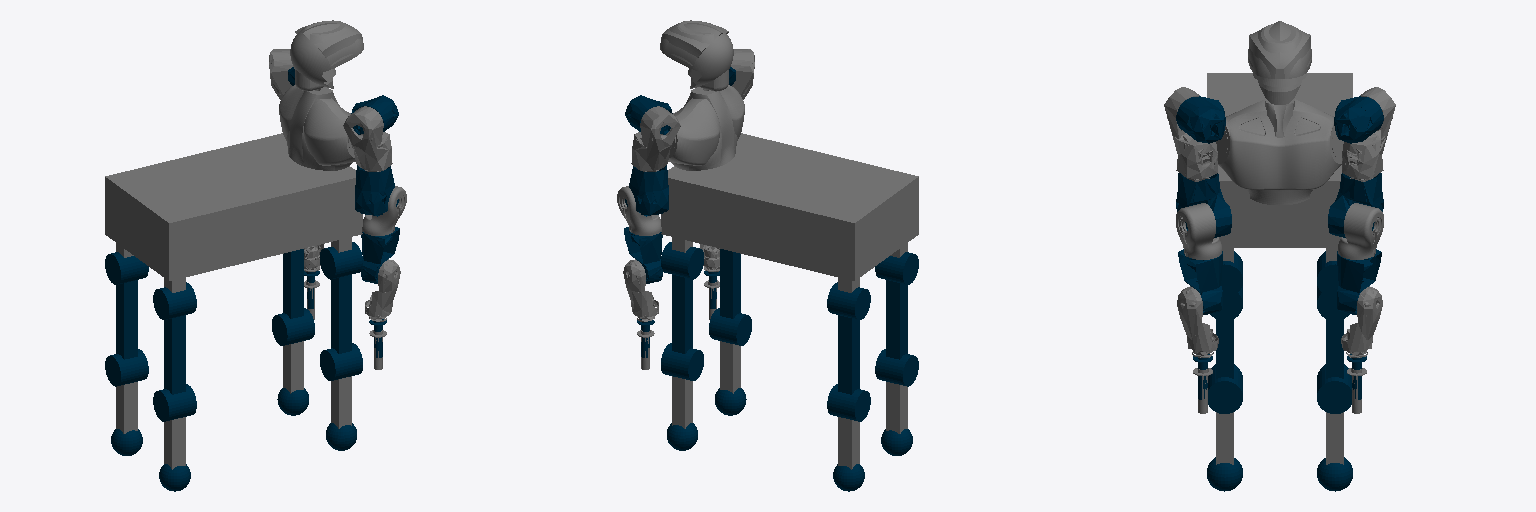
--- What the picture shows (computed from the rendered views, not written in the file) ---
3 views of the same robot in one strip: view 1: azimuth 30°, elevation 25°; view 2: azimuth 150°, elevation 25°; view 3: azimuth 270°, elevation 25° (orthographic).
Model centauro with 32 links and 31 joints (27 revolute, 3 fixed, 1 floating), rooted at world, posed all joints at 0.
Visible links, largest first — view 1: pelvis, torso_2, knee_3, knee_4, knee_2, knee_1, hip2_3, hip2_2, hip2_4, arm2_2, arm2_3, hip2_1 (+5 smaller); view 2: pelvis, torso_2, knee_4, knee_3, knee_1, knee_2, hip2_4, hip2_1, hip2_3, arm1_2, arm1_3, hip2_2 (+5 smaller); view 3: torso_2, pelvis, knee_1, knee_2, arm1_2, arm2_2, hip2_1, hip2_2, arm1_4, arm2_4, arm1_1, arm2_1 (+6 smaller).
Link boxes in pixels (x1,y1,x2,y2): pelvis: (105, 133, 362, 280); torso_2: (279, 20, 363, 170); knee_3: (153, 384, 196, 491); knee_4: (105, 349, 148, 455); knee_2: (320, 343, 362, 450); knee_1: (272, 308, 314, 415); hip2_3: (153, 282, 196, 394); hip2_2: (320, 242, 362, 353); hip2_4: (105, 252, 148, 359); arm2_2: (343, 106, 392, 171); arm2_3: (355, 165, 398, 216); hip2_1: (283, 249, 303, 318); pelvis: (661, 133, 918, 280); torso_2: (660, 20, 744, 170); knee_4: (827, 384, 870, 491); knee_3: (875, 349, 918, 455); knee_1: (661, 343, 703, 450); knee_2: (709, 308, 751, 415); hip2_4: (827, 282, 870, 394); hip2_1: (661, 242, 703, 353); hip2_3: (875, 252, 918, 359); arm1_2: (631, 106, 680, 171); arm1_3: (625, 165, 668, 216); hip2_2: (720, 249, 740, 318); torso_2: (1216, 21, 1343, 205); pelvis: (1207, 73, 1352, 247); knee_1: (1317, 368, 1352, 491); knee_2: (1207, 368, 1242, 491); arm1_2: (1342, 87, 1395, 181); arm2_2: (1164, 87, 1217, 181); hip2_1: (1317, 251, 1343, 378); hip2_2: (1216, 251, 1242, 378); arm1_4: (1338, 203, 1383, 259); arm2_4: (1176, 203, 1221, 259); arm1_1: (1334, 96, 1383, 143); arm2_1: (1176, 96, 1225, 143).
Bounding box of the posed robot: 0.8353 × 0.6319 × 1.4 m (x, y, z).
17 mesh visuals loaded from 9 distinct referenced files (9 binary STL).

The robot description file, URDF, robot "centauro":
<?xml version="1.0" ?>
<!-- =================================================================================== -->
<!-- |    This document was autogenerated by xacro from centauro.urdf.xacro            | -->
<!-- |    EDITING THIS FILE BY HAND IS NOT RECOMMENDED                                 | -->
<!-- =================================================================================== -->
<robot name="centauro" xmlns:xacro="http://www.ros.org/wiki/xacro">
  <!-- /constants -->
  <!-- Here all arguments from launch file are evaluated to the final xacro poropeties.
     Also all the parameter dependencies are resolved-->
  <material name="grey">
    <color rgba="0.5 0.5 0.5 1"/>
  </material>
  <material name="dark_grey">
    <color rgba="0.3 0.3 0.3 1"/>
  </material>
  <material name="blue">
    <color rgba="0.0 0.2 0.3 1"/>
  </material>
  <material name="red">
    <color rgba="0.5 0.1 0.2 1"/>
  </material>
  <material name="black">
    <color rgba="0.0 0.0 0.0 1"/>
  </material>
  <!-- Here all arguments from launch file are evaluated to the final xacro poropeties.
     Also all the parameter dependencies are resolved-->
  <!-- load proper collision model -->
  <!-- load proper collision model -->
  <!-- Here all arguments from launch file are evaluated to the final xacro poropeties.
     Also all the parameter dependencies are resolved-->
  <!-- load proper collision model -->
  <!-- load proper collision model -->
  <!-- /macro legs -->
  <!-- /macro arms -->
  <!-- /other files -->
  <!-- reference -->
  <link name="world"/>
  <link name="pelvis">
    <inertial>
      <origin xyz="-0.0704 0.0 -0.0416"/>
      <mass value="25.0"/>
      <inertia ixx="0.242311" ixy="0.0" ixz="0.0" iyy="1.338707" iyz="0.0" izz="1.369479"/>
    </inertial>
    <visual>
      <origin rpy="0.0 0.0 0.0" xyz="0 0 0"/>
      <geometry>
        <box size="0.70 0.40 0.20"/>
      </geometry>
      <material name="grey"/>
    </visual>
    <collision>
      <origin rpy="0.0 0.0 0.0" xyz="0 0 0"/>
      <geometry>
        <box size="0.70 0.40 0.20"/>
      </geometry>
      <material name="grey"/>
    </collision>
  </link>
  <joint name="reference" type="floating">
    <origin xyz="0.0 0.0 0.85"/>
    <parent link="world"/>
    <child link="pelvis"/>
  </joint>
  <!-- /reference  -->
  <!-- torso links -->
  <link name="torso_2">
    <inertial>
      <origin xyz="0.0047281261 0.00038307386 0.14972892"/>
      <mass value="4.5494226"/>
      <!-- mass  7: torso_1 (2) + torso_2 (5), head un_modelled -->
      <inertia ixx="0.063643392" ixy="8.939e-05" ixz="-0.00086873" iyy="0.02680235" iyz="-4.657e-05" izz="0.04743015"/>
    </inertial>
    <visual>
      <origin rpy="0.0 0.0 0.0" xyz="0.0 0 0.0"/>
      <geometry>
        <mesh filename="package://centauro/centauro_urdf/meshes/link1.stl" scale="0.001 0.001 0.001"/>
      </geometry>
      <material name="grey"/>
    </visual>
    <collision>
      <origin rpy="0.0 0.0 0.0" xyz="0.0 0 0.0"/>
      <geometry>
        <mesh filename="package://centauro/centauro_urdf/meshes/link1.stl" scale="0.001 0.001 0.001"/>
      </geometry>
      <material name="grey"/>
    </collision>
  </link>
  <link name="imu_link">
    <inertial>
      <mass value="0.0"/>
      <!-- mass  7: torso_1 (2) + torso_2 (5), head un_modelled -->
      <inertia ixx="0.0" ixy="0.0" ixz="0.0" iyy="0.0" iyz="0.0" izz="0.0"/>
    </inertial>
  </link>
  <!-- /torso links -->
  <!-- torso joints -->
  <joint name="torso_yaw" type="revolute">
    <parent link="pelvis"/>
    <origin xyz="0.3 0.0 0.1"/>
    <child link="torso_2"/>
    <axis xyz="0 0 1"/>
    <limit effort="147" lower="-2.618" upper="2.618" velocity="5.7"/>
    <!-- TODO -->
  </joint>
  <joint name="imu_joint" type="fixed">
    <parent link="pelvis"/>
    <origin xyz="-0.0704 0.0 -0.0416"/>
    <child link="imu_link"/>
  </joint>
  <!-- /torso joints -->
  <transmission name="t_torso_yaw">
    <type> transmission_interface/SimpleTransmission</type>
    <joint name="torso_yaw">
      <hardwareInterface>EffortJointInterface</hardwareInterface>
    </joint>
    <actuator name="motor_torso_yaw">
      <hardwareInterface>EffortJointInterface</hardwareInterface>
      <machanicalReduction>1</machanicalReduction>
    </actuator>
    <robotNamespace>/centauro</robotNamespace>
  </transmission>
  <!-- /torso actuators -->
  <!-- /torso -->
  <!-- LINKS -->
  <!-- shoulder yaw-roll-->
  <link name="arm1_1">
    <inertial>
      <origin xyz="-0.0031005886 0.040324584 0.007451937"/>
      <mass value="1.5583338"/>
      <inertia ixx="0.0032318636" ixy="4.24587e-05" ixz="4.91626e-05" iyy="0.00275718" iyz="-0.0002387056" izz="0.004275047"/>
    </inertial>
    <visual>
      <origin rpy="0.0 0.0 0.0" xyz="0.0 0.0 0.0"/>
      <geometry>
        <mesh filename="package://centauro/centauro_urdf/meshes/link2.stl" scale="0.001 -0.001 0.001"/>
      </geometry>
      <material name="blue"/>
    </visual>
    <collision>
      <origin rpy="0.0 0.0 0.0" xyz="0.0 0.0 0.0"/>
      <geometry>
        <mesh filename="package://centauro/centauro_urdf/meshes/link2.stl" scale="0.001 -0.001 0.001"/>
      </geometry>
      <material name="blue"/>
    </collision>
  </link>
  <!-- shoulder yaw-roll-->
  <!-- shoulder roll-pitch-->
  <link name="arm1_2">
    <inertial>
      <origin xyz="0.05105435 0.00011109 -0.07643596"/>
      <mass value="1.515061"/>
      <inertia ixx="0.01029558" ixy="2.846e-05" ixz="0.0036567" iyy="0.01178018" iyz="2.088e-05" izz="0.00386123"/>
    </inertial>
    <visual>
      <origin rpy="0.0 0.0 0.0" xyz="0.0 0.0 0.0"/>
      <geometry>
        <mesh filename="package://centauro/centauro_urdf/meshes/link3.stl" scale="0.001 -0.001 0.001"/>
      </geometry>
      <material name="grey"/>
    </visual>
    <collision>
      <origin rpy="0.0 0.0 0.0" xyz="0.0 0.0 0.0"/>
      <geometry>
        <mesh filename="package://centauro/centauro_urdf/meshes/link3.stl" scale="0.001 -0.001 0.001"/>
      </geometry>
      <material name="grey"/>
    </collision>
  </link>
  <!-- shoulder roll-pitch-->
  <!-- shoulder-elbow -->
  <link name="arm1_3">
    <inertial>
      <origin xyz="0.01207624 0.00322013 -0.03427312"/>
      <mass value="1.5088101"/>
      <inertia ixx="0.00469819" ixy="-0.00026547" ixz="0.00077706" iyy="0.00501755" iyz="0.00029679" izz="0.00310954"/>
    </inertial>
    <visual>
      <origin rpy="0.0 0.0 0.0" xyz="0.0 0.0 0.0"/>
      <geometry>
        <mesh filename="package://centauro/centauro_urdf/meshes/link4.stl" scale="0.001 -0.001 0.001"/>
      </geometry>
      <material name="blue"/>
    </visual>
    <collision>
      <origin rpy="0.0 0.0 0.0" xyz="0.0 0.0 0.0"/>
      <geometry>
        <mesh filename="package://centauro/centauro_urdf/meshes/link4.stl" scale="0.001 -0.001 0.001"/>
      </geometry>
      <material name="blue"/>
    </collision>
  </link>
  <!-- /shoulder-elbow -->
  <!-- elbow yaw-pitch -->
  <link name="arm1_4">
    <inertial>
      <origin xyz="0.010147552 -0.029928537 -0.032528288"/>
      <mass value="0.96297329"/>
      <inertia ixx="0.0026493567" ixy="5.1632e-06" ixz="0.0001292309" iyy="0.0023470955" iyz="-0.0007895755" izz="0.0012213063"/>
    </inertial>
    <visual>
      <origin rpy="0.0 0.0 0.0" xyz="0.0 0.0 0.0"/>
      <geometry>
        <mesh filename="package://centauro/centauro_urdf/meshes/link5.stl" scale="0.001 -0.001 0.001"/>
      </geometry>
      <material name="grey"/>
    </visual>
    <collision>
      <origin rpy="0.0 0.0 0.0" xyz="0.0 0.0 0.0"/>
      <geometry>
        <mesh filename="package://centauro/centauro_urdf/meshes/link5.stl" scale="0.001 -0.001 0.001"/>
      </geometry>
      <material name="grey"/>
    </collision>
  </link>
  <!-- /elbow yaw-pitch -->
  <!-- elbow-wrist -->
  <link name="arm1_5">
    <inertial>
      <origin xyz="-0.0001574443 0.0041320907 -0.10756614"/>
      <mass value="1.4703698"/>
      <inertia ixx="0.0064160453" ixy="1.96382e-05" ixz="2.49912e-05" iyy="0.0062016367" iyz="-0.0001987903" izz="0.0017091658"/>
    </inertial>
    <visual>
      <origin rpy="0.0 0.0 0.0" xyz="0.0 0.0 0.0"/>
      <geometry>
        <mesh filename="package://centauro/centauro_urdf/meshes/link6.stl" scale="0.001 -0.001 0.001"/>
      </geometry>
      <material name="blue"/>
    </visual>
    <collision>
      <origin rpy="0.0 0.0 0.0" xyz="0.0 0.0 0.0"/>
      <geometry>
        <mesh filename="package://centauro/centauro_urdf/meshes/link6.stl" scale="0.001 -0.001 0.001"/>
      </geometry>
      <material name="blue"/>
    </collision>
  </link>
  <!-- /elbow-wrist -->
  <!-- wrist yaw-pitch -->
  <link name="arm1_6">
    <inertial>
      <origin xyz="3.23645e-05 -0.035947237 -0.080878061"/>
      <mass value="0.94693868"/>
      <inertia ixx="0.0036896582" ixy="2.63667e-05" ixz="1.4005e-06" iyy="0.0034146283" iyz="-0.0008268103" izz="0.0010790183"/>
    </inertial>
    <visual>
      <origin rpy="0.0 0.0 0.0" xyz="0.0 0.0 0.0"/>
      <geometry>
        <mesh filename="package://centauro/centauro_urdf/meshes/link7.stl" scale="0.001 -0.001 0.001"/>
      </geometry>
      <material name="grey"/>
    </visual>
    <collision>
      <origin rpy="0.0 0.0 0.0" xyz="0.0 0.0 0.0"/>
      <geometry>
        <mesh filename="package://centauro/centauro_urdf/meshes/link7.stl" scale="0.001 -0.001 0.001"/>
      </geometry>
      <material name="grey"/>
    </collision>
  </link>
  <!-- /wrist yaw-pitch -->
  <link name="arm1_7">
    <inertial>
      <origin xyz="2.46596e-05 -0.0001467705 -0.0052993013"/>
      <mass value="0.55981036"/>
      <inertia ixx="0.0004360175" ixy="1.397e-07" ixz="-1.382e-07" iyy="0.0004299166" iyz="-1.4752e-06" izz="0.0004522224"/>
    </inertial>
    <visual>
      <origin rpy="0.0 0.0 0.0" xyz="0.0 0.0 0.0"/>
      <geometry>
        <mesh filename="package://centauro/centauro_urdf/meshes/link8.stl" scale="0.001 -0.001 0.001"/>
      </geometry>
      <material name="blue"/>
    </visual>
    <collision>
      <origin rpy="0.0 0.0 0.0" xyz="0.0 0.0 0.0"/>
      <geometry>
        <mesh filename="package://centauro/centauro_urdf/meshes/link8.stl" scale="0.001 -0.001 0.001"/>
      </geometry>
      <material name="blue"/>
    </collision>
  </link>
  <!-- /LINKS -->
  <!-- JOINTS -->
  <!-- shoulder yaw -->
  <joint name="j_arm1_1" type="revolute">
    <parent link="torso_2"/>
    <child link="arm1_1"/>
    <origin rpy="0.0 0.0 -0.523602668986" xyz="0.04576 0.169137 0.190626"/>
    <axis xyz="0 0.984807753012 0.173648177667"/>
    <limit effort="147" lower="-3.403" upper="1.658" velocity="5.7"/>
  </joint>
  <!-- /shoulder yaw -->
  <!-- shoulder roll -->
  <joint name="j_arm1_2" type="revolute">
    <parent link="arm1_1"/>
    <child link="arm1_2"/>
    <origin xyz="-0.09115 0.06106 0.010766"/>
    <axis xyz="-1 0 0"/>
    <limit effort="147" lower="-3.49" upper="0" velocity="5.7"/>
  </joint>
  <!-- /shoulder roll -->
  <!-- shoulder pitch-->
  <joint name="j_arm1_3" type="revolute">
    <parent link="arm1_2"/>
    <child link="arm1_3"/>
    <origin xyz="0.09115 0.0 -0.21915"/>
    <axis xyz="0 0 -1"/>
    <limit effort="147" lower="-2.618" upper="2.618" velocity="8.2"/>
  </joint>
  <!-- /shoulder pitch -->
  <!-- elbow yaw -->
  <joint name="j_arm1_4" type="revolute">
    <parent link="arm1_3"/>
    <child link="arm1_4"/>
    <origin xyz="0.04 0.05615 -0.074"/>
    <axis xyz="0 1 0"/>
    <limit effort="147" lower="-2.530" upper="0.349" velocity="8.2"/>
  </joint>
  <!-- /elbow yaw -->
  <!-- elbow pitch-->
  <joint name="j_arm1_5" type="revolute">
    <parent link="arm1_4"/>
    <child link="arm1_5"/>
    <origin xyz="-0.015 -0.05615 -0.061"/>
    <axis xyz="0 0 -1"/>
    <limit effort="55" lower="-2.618" upper="2.618" velocity="11.6"/>
  </joint>
  <!-- /elbow pitch-->
  <!-- wrist yaw-->
  <joint name="j_arm1_6" type="revolute">
    <parent link="arm1_5"/>
    <child link="arm1_6"/>
    <origin xyz="0.0 0.049 -0.18"/>
    <axis xyz="0 1 0"/>
    <limit effort="55" lower="-1.570" upper="1.570" velocity="11.6"/>
  </joint>
  <!-- /wrist yaw-->
  <!-- wrist pitch-->
  <joint name="j_arm1_7" type="revolute">
    <parent link="arm1_6"/>
    <child link="arm1_7"/>
    <origin xyz="0.0 -0.049 -0.169"/>
    <axis xyz="0 0 -1"/>
    <limit effort="27" lower="-2.618" upper="2.618" velocity="20.3"/>
  </joint>
  <!-- wrist pitch-->
  <!-- force-troque sensor -->
  <transmission name="t_j_arm1_1">
    <type> transmission_interface/SimpleTransmission</type>
    <joint name="j_arm1_1">
      <hardwareInterface>EffortJointInterface</hardwareInterface>
    </joint>
    <actuator name="motor_j_arm1_1">
      <hardwareInterface>EffortJointInterface</hardwareInterface>
      <machanicalReduction>1</machanicalReduction>
    </actuator>
    <robotNamespace>/centauro</robotNamespace>
  </transmission>
  <transmission name="t_j_arm1_2">
    <type> transmission_interface/SimpleTransmission</type>
    <joint name="j_arm1_2">
      <hardwareInterface>EffortJointInterface</hardwareInterface>
    </joint>
    <actuator name="motor_j_arm1_2">
      <hardwareInterface>EffortJointInterface</hardwareInterface>
      <machanicalReduction>1</machanicalReduction>
    </actuator>
    <robotNamespace>/centauro</robotNamespace>
  </transmission>
  <transmission name="t_j_arm1_3">
    <type> transmission_interface/SimpleTransmission</type>
    <joint name="j_arm1_3">
      <hardwareInterface>EffortJointInterface</hardwareInterface>
    </joint>
    <actuator name="motor_j_arm1_3">
      <hardwareInterface>EffortJointInterface</hardwareInterface>
      <machanicalReduction>1</machanicalReduction>
    </actuator>
    <robotNamespace>/centauro</robotNamespace>
  </transmission>
  <transmission name="t_j_arm1_4">
    <type> transmission_interface/SimpleTransmission</type>
    <joint name="j_arm1_4">
      <hardwareInterface>EffortJointInterface</hardwareInterface>
    </joint>
    <actuator name="motor_j_arm1_4">
      <hardwareInterface>EffortJointInterface</hardwareInterface>
      <machanicalReduction>1</machanicalReduction>
    </actuator>
    <robotNamespace>/centauro</robotNamespace>
  </transmission>
  <transmission name="t_j_arm1_5">
    <type> transmission_interface/SimpleTransmission</type>
    <joint name="j_arm1_5">
      <hardwareInterface>EffortJointInterface</hardwareInterface>
    </joint>
    <actuator name="motor_j_arm1_5">
      <hardwareInterface>EffortJointInterface</hardwareInterface>
      <machanicalReduction>1</machanicalReduction>
    </actuator>
    <robotNamespace>/centauro</robotNamespace>
  </transmission>
  <transmission name="t_j_arm1_6">
    <type> transmission_interface/SimpleTransmission</type>
    <joint name="j_arm1_6">
      <hardwareInterface>EffortJointInterface</hardwareInterface>
    </joint>
    <actuator name="motor_j_arm1_6">
      <hardwareInterface>EffortJointInterface</hardwareInterface>
      <machanicalReduction>1</machanicalReduction>
    </actuator>
    <robotNamespace>/centauro</robotNamespace>
  </transmission>
  <transmission name="t_j_arm1_7">
    <type> transmission_interface/SimpleTransmission</type>
    <joint name="j_arm1_7">
      <hardwareInterface>EffortJointInterface</hardwareInterface>
    </joint>
    <actuator name="motor_j_arm1_7">
      <hardwareInterface>EffortJointInterface</hardwareInterface>
      <machanicalReduction>1</machanicalReduction>
    </actuator>
    <robotNamespace>/centauro</robotNamespace>
  </transmission>
  <!-- /actuators -->
  <!-- end-effector -->
  <!-- links -->
  <link name="arm1_8">
    <inertial>
      <origin rpy="0 0 0" xyz="0.001 0.0 0.006"/>
      <mass value="0.15"/>
      <inertia ixx="0.0002" ixy="0.0" ixz="0.0" iyy="0.0002" iyz="0.0" izz="1e-05"/>
      <!--          <inertia ixx="0.003"  ixy="0"  ixz="0" iyy="0.0025" iyz="0" izz="0.00016900" /> -->
    </inertial>
    <visual>
      <origin rpy="0.0 0.0 0.0" xyz="0.0 0.0 0.0"/>
      <geometry>
        <mesh filename="package://centauro/centauro_urdf/meshes/link9.stl" scale="0.001 -0.001 -0.001"/>
      </geometry>
      <material name="grey"/>
    </visual>
    <collision>
      <origin rpy="0.0 0.0 0.0" xyz="0.0 0.0 0.0"/>
      <geometry>
        <mesh filename="package://centauro/centauro_urdf/meshes/link9.stl" scale="0.001 -0.001 -0.001"/>
      </geometry>
    </collision>
  </link>
  <!-- /links -->
  <!-- joints -->
  <joint name="j_arm1_8" type="fixed">
    <parent link="arm1_7"/>
    <child link="arm1_8"/>
    <origin rpy="0.0 3.14159265359 -1.5707963268" xyz="0.0 0.0 -0.0405"/>
    <axis xyz="1 0 0"/>
    <limit effort="0" lower="0.0" upper="0" velocity="0"/>
  </joint>
   --&gt;

  <!-- /joints -->
  <!-- /end-effector -->
  <!-- LINKS -->
  <!-- shoulder yaw-roll-->
  <link name="arm2_1">
    <inertial>
      <origin xyz="-0.0031005886 -0.040324584 0.007451937"/>
      <mass value="1.5583338"/>
      <inertia ixx="0.0032318636" ixy="-4.24587e-05" ixz="4.91626e-05" iyy="0.00275718" iyz="0.0002387056" izz="0.004275047"/>
    </inertial>
    <visual>
      <origin rpy="0.0 0.0 0.0" xyz="0.0 0.0 0.0"/>
      <geometry>
        <mesh filename="package://centauro/centauro_urdf/meshes/link2.stl" scale="0.001 0.001 0.001"/>
      </geometry>
      <material name="blue"/>
    </visual>
    <collision>
      <origin rpy="0.0 0.0 0.0" xyz="0.0 0.0 0.0"/>
      <geometry>
        <mesh filename="package://centauro/centauro_urdf/meshes/link2.stl" scale="0.001 0.001 0.001"/>
      </geometry>
      <material name="blue"/>
    </collision>
  </link>
  <!-- shoulder yaw-roll-->
  <!-- shoulder roll-pitch-->
  <link name="arm2_2">
    <inertial>
      <origin xyz="0.05105435 -0.00011109 -0.07643596"/>
      <mass value="1.515061"/>
      <inertia ixx="0.01029558" ixy="-2.846e-05" ixz="0.0036567" iyy="0.01178018" iyz="-2.088e-05" izz="0.00386123"/>
    </inertial>
    <visual>
      <origin rpy="0.0 0.0 0.0" xyz="0.0 0.0 0.0"/>
      <geometry>
        <mesh filename="package://centauro/centauro_urdf/meshes/link3.stl" scale="0.001 0.001 0.001"/>
      </geometry>
      <material name="grey"/>
    </visual>
    <collision>
      <origin rpy="0.0 0.0 0.0" xyz="0.0 0.0 0.0"/>
      <geometry>
        <mesh filename="package://centauro/centauro_urdf/meshes/link3.stl" scale="0.001 0.001 0.001"/>
      </geometry>
      <material name="grey"/>
    </collision>
  </link>
  <!-- shoulder roll-pitch-->
  <!-- shoulder-elbow -->
  <link name="arm2_3">
    <inertial>
      <origin xyz="0.01207624 -0.00322013 -0.03427312"/>
      <mass value="1.5088101"/>
      <inertia ixx="0.00469819" ixy="0.00026547" ixz="0.00077706" iyy="0.00501755" iyz="-0.00029679" izz="0.00310954"/>
    </inertial>
    <visual>
      <origin rpy="0.0 0.0 0.0" xyz="0.0 0.0 0.0"/>
      <geometry>
        <mesh filename="package://centauro/centauro_urdf/meshes/link4.stl" scale="0.001 0.001 0.001"/>
      </geometry>
      <material name="blue"/>
    </visual>
    <collision>
      <origin rpy="0.0 0.0 0.0" xyz="0.0 0.0 0.0"/>
      <geometry>
        <mesh filename="package://centauro/centauro_urdf/meshes/link4.stl" scale="0.001 0.001 0.001"/>
      </geometry>
      <material name="blue"/>
    </collision>
  </link>
  <!-- /shoulder-elbow -->
  <!-- elbow yaw-pitch -->
  <link name="arm2_4">
    <inertial>
      <origin xyz="0.010147552 0.029928537 -0.032528288"/>
      <mass value="0.96297329"/>
      <inertia ixx="0.0026493567" ixy="-5.1632e-06" ixz="0.0001292309" iyy="0.0023470955" iyz="0.0007895755" izz="0.0012213063"/>
    </inertial>
    <visual>
      <origin rpy="0.0 0.0 0.0" xyz="0.0 0.0 0.0"/>
      <geometry>
        <mesh filename="package://centauro/centauro_urdf/meshes/link5.stl" scale="0.001 0.001 0.001"/>
      </geometry>
      <material name="grey"/>
    </visual>
    <collision>
      <origin rpy="0.0 0.0 0.0" xyz="0.0 0.0 0.0"/>
      <geometry>
        <mesh filename="package://centauro/centauro_urdf/meshes/link5.stl" scale="0.001 0.001 0.001"/>
      </geometry>
      <material name="grey"/>
    </collision>
  </link>
  <!-- /elbow yaw-pitch -->
  <!-- elbow-wrist -->
  <link name="arm2_5">
    <inertial>
      <origin xyz="-0.0001574443 -0.0041320907 -0.10756614"/>
      <mass value="1.4703698"/>
      <inertia ixx="0.0064160453" ixy="-1.96382e-05" ixz="2.49912e-05" iyy="0.0062016367" iyz="0.0001987903" izz="0.0017091658"/>
    </inertial>
    <visual>
      <origin rpy="0.0 0.0 0.0" xyz="0.0 0.0 0.0"/>
      <geometry>
        <mesh filename="package://centauro/centauro_urdf/meshes/link6.stl" scale="0.001 0.001 0.001"/>
      </geometry>
      <material name="blue"/>
    </visual>
    <collision>
      <origin rpy="0.0 0.0 0.0" xyz="0.0 0.0 0.0"/>
      <geometry>
        <mesh filename="package://centauro/centauro_urdf/meshes/link6.stl" scale="0.001 0.001 0.001"/>
      </geometry>
      <material name="blue"/>
    </collision>
  </link>
  <!-- /elbow-wrist -->
  <!-- wrist yaw-pitch -->
  <link name="arm2_6">
    <inertial>
      <origin xyz="3.23645e-05 0.035947237 -0.080878061"/>
      <mass value="0.94693868"/>
      <inertia ixx="0.0036896582" ixy="-2.63667e-05" ixz="1.4005e-06" iyy="0.0034146283" iyz="0.0008268103" izz="0.0010790183"/>
    </inertial>
    <visual>
      <origin rpy="0.0 0.0 0.0" xyz="0.0 0.0 0.0"/>
      <geometry>
        <mesh filename="package://centauro/centauro_urdf/meshes/link7.stl" scale="0.001 0.001 0.001"/>
      </geometry>
      <material name="grey"/>
    </visual>
    <collision>
      <origin rpy="0.0 0.0 0.0" xyz="0.0 0.0 0.0"/>
      <geometry>
        <mesh filename="package://centauro/centauro_urdf/meshes/link7.stl" scale="0.001 0.001 0.001"/>
      </geometry>
      <material name="grey"/>
    </collision>
  </link>
  <!-- /wrist yaw-pitch -->
  <link name="arm2_7">
    <inertial>
      <origin xyz="2.46596e-05 0.0001467705 -0.0052993013"/>
      <mass value="0.55981036"/>
      <inertia ixx="0.0004360175" ixy="-1.397e-07" ixz="-1.382e-07" iyy="0.0004299166" iyz="1.4752e-06" izz="0.0004522224"/>
    </inertial>
    <visual>
      <origin rpy="0.0 0.0 0.0" xyz="0.0 0.0 0.0"/>
      <geometry>
        <mesh filename="package://centauro/centauro_urdf/meshes/link8.stl" scale="0.001 0.001 0.001"/>
      </geometry>
      <material name="blue"/>
    </visual>
    <collision>
      <origin rpy="0.0 0.0 0.0" xyz="0.0 0.0 0.0"/>
      <geometry>
        <mesh filename="package://centauro/centauro_urdf/meshes/link8.stl" scale="0.001 0.001 0.001"/>
      </geometry>
      <material name="blue"/>
    </collision>
  </link>
  <!-- /LINKS -->
  <!-- JOINTS -->
  <!-- shoulder yaw -->
  <joint name="j_arm2_1" type="revolute">
    <parent link="torso_2"/>
    <child link="arm2_1"/>
    <origin rpy="0.0 0.0 0.523602668986" xyz="0.04576 -0.169137 0.190626"/>
    <axis xyz="0 -0.984807753012 0.173648177667"/>
    <limit effort="147" lower="-1.658" upper="3.403" velocity="5.7"/>
  </joint>
  <!-- /shoulder yaw -->
  <!-- shoulder roll -->
  <joint name="j_arm2_2" type="revolute">
    <parent link="arm2_1"/>
    <child link="arm2_2"/>
    <origin xyz="-0.09115 -0.06106 0.010766"/>
    <axis xyz="-1 0 0"/>
    <limit effort="147" lower="0" upper="3.49" velocity="5.7"/>
  </joint>
  <!-- /shoulder roll -->
  <!-- shoulder pitch-->
  <joint name="j_arm2_3" type="revolute">
    <parent link="arm2_2"/>
    <child link="arm2_3"/>
    <origin xyz="0.09115 0.0 -0.21915"/>
    <axis xyz="0 0 -1"/>
    <limit effort="147" lower="-2.618" upper="2.618" velocity="8.2"/>
  </joint>
  <!-- /shoulder pitch -->
  <!-- elbow yaw -->
  <joint name="j_arm2_4" type="revolute">
    <parent link="arm2_3"/>
    <child link="arm2_4"/>
    <origin xyz="0.04 -0.05615 -0.074"/>
    <axis xyz="0 -1 0"/>
    <limit effort="147" lower="-0.349" upper="2.530" velocity="8.2"/>
  </joint>
  <!-- /elbow yaw -->
  <!-- elbow pitch-->
  <joint name="j_arm2_5" type="revolute">
    <parent link="arm2_4"/>
    <child link="arm2_5"/>
    <origin xyz="-0.015 0.05615 -0.061"/>
    <axis xyz="0 0 -1"/>
    <limit effort="55" lower="-2.618" upper="2.618" velocity="11.6"/>
  </joint>
  <!-- /elbow pitch-->
  <!-- wrist yaw-->
  <joint name="j_arm2_6" type="revolute">
    <parent link="arm2_5"/>
    <child link="arm2_6"/>
    <origin xyz="0.0 -0.049 -0.18"/>
    <axis xyz="0 -1 0"/>
    <limit effort="55" lower="-1.570" upper="1.570" velocity="11.6"/>
  </joint>
  <!-- /wrist yaw-->
  <!-- wrist pitch-->
  <joint name="j_arm2_7" type="revolute">
    <parent link="arm2_6"/>
    <child link="arm2_7"/>
    <origin xyz="0.0 0.049 -0.169"/>
    <axis xyz="0 0 -1"/>
    <limit effort="27" lower="-2.618" upper="2.618" velocity="20.3"/>
  </joint>
  <!-- wrist pitch-->
  <!-- force-troque sensor -->
  <transmission name="t_j_arm2_1">
    <type> transmission_interface/SimpleTransmission</type>
    <joint name="j_arm2_1">
      <hardwareInterface>EffortJointInterface</hardwareInterface>
    </joint>
    <actuator name="motor_j_arm2_1">
      <hardwareInterface>EffortJointInterface</hardwareInterface>
      <machanicalReduction>1</machanicalReduction>
    </actuator>
    <robotNamespace>/centauro</robotNamespace>
  </transmission>
  <transmission name="t_j_arm2_2">
    <type> transmission_interface/SimpleTransmission</type>
    <joint name="j_arm2_2">
      <hardwareInterface>EffortJointInterface</hardwareInterface>
    </joint>
    <actuator name="motor_j_arm2_2">
      <hardwareInterface>EffortJointInterface</hardwareInterface>
      <machanicalReduction>1</machanicalReduction>
    </actuator>
    <robotNamespace>/centauro</robotNamespace>
  </transmission>
  <transmission name="t_j_arm2_3">
    <type> transmission_interface/SimpleTransmission</type>
    <joint name="j_arm2_3">
      <hardwareInterface>EffortJointInterface</hardwareInterface>
    </joint>
    <actuator name="motor_j_arm2_3">
      <hardwareInterface>EffortJointInterface</hardwareInterface>
      <machanicalReduction>1</machanicalReduction>
    </actuator>
    <robotNamespace>/centauro</robotNamespace>
  </transmission>
  <transmission name="t_j_arm2_4">
    <type> transmission_interface/SimpleTransmission</type>
    <joint name="j_arm2_4">
      <hardwareInterface>EffortJointInterface</hardwareInterface>
    </joint>
    <actuator name="motor_j_arm2_4">
      <hardwareInterface>EffortJointInterface</hardwareInterface>
      <machanicalReduction>1</machanicalReduction>
    </actuator>
    <robotNamespace>/centauro</robotNamespace>
  </transmission>
  <transmission name="t_j_arm2_5">
    <type> transmission_interface/SimpleTransmission</type>
    <joint name="j_arm2_5">
      <hardwareInterface>EffortJointInterface</hardwareInterface>
    </joint>
    <actuator name="motor_j_arm2_5">
      <hardwareInterface>EffortJointInterface</hardwareInterface>
      <machanicalReduction>1</machanicalReduction>
    </actuator>
    <robotNamespace>/centauro</robotNamespace>
  </transmission>
  <transmission name="t_j_arm2_6">
    <type> transmission_interface/SimpleTransmission</type>
    <joint name="j_arm2_6">
      <hardwareInterface>EffortJointInterface</hardwareInterface>
    </joint>
    <actuator name="motor_j_arm2_6">
      <hardwareInterface>EffortJointInterface</hardwareInterface>
      <machanicalReduction>1</machanicalReduction>
    </actuator>
    <robotNamespace>/centauro</robotNamespace>
  </transmission>
  <transmission name="t_j_arm2_7">
    <type> transmission_interface/SimpleTransmission</type>
    <joint name="j_arm2_7">
      <hardwareInterface>EffortJointInterface</hardwareInterface>
    </joint>
    <actuator name="motor_j_arm2_7">
      <hardwareInterface>EffortJointInterface</hardwareInterface>
      <machanicalReduction>1</machanicalReduction>
    </actuator>
    <robotNamespace>/centauro</robotNamespace>
  </transmission>
  <!-- /actuators -->
  <!-- end-effector -->
  <!-- links -->
  <link name="arm2_8">
    <inertial>
      <origin rpy="0 0 0" xyz="0.001 0.0 0.006"/>
      <mass value="0.15"/>
      <inertia ixx="0.0002" ixy="0.0" ixz="0.0" iyy="0.0002" iyz="0.0" izz="1e-05"/>
      <!--          <inertia ixx="0.003"  ixy="0"  ixz="0" iyy="0.0025" iyz="0" izz="0.00016900" /> -->
    </inertial>
    <visual>
      <origin rpy="0.0 0.0 0.0" xyz="0.0 0.0 0.0"/>
      <geometry>
        <mesh filename="package://centauro/centauro_urdf/meshes/link9.stl" scale="0.001 0.001 -0.001"/>
      </geometry>
      <material name="grey"/>
    </visual>
    <collision>
      <origin rpy="0.0 0.0 0.0" xyz="0.0 0.0 0.0"/>
      <geometry>
        <mesh filename="package://centauro/centauro_urdf/meshes/link9.stl" scale="0.001 0.001 -0.001"/>
      </geometry>
    </collision>
  </link>
  <!-- /links -->
  <!-- joints -->
  <joint name="j_arm2_8" type="fixed">
    <parent link="arm2_7"/>
    <child link="arm2_8"/>
    <origin rpy="0.0 3.14159265359 -1.5707963268" xyz="0.0 0.0 -0.0405"/>
    <axis xyz="1 0 0"/>
    <limit effort="0" lower="0.0" upper="0" velocity="0"/>
  </joint>
   --&gt;

  <!-- /joints -->
  <!-- /end-effector -->
  <!-- /arms -->
  <link name="hip1_1">
    <inertial>
      <origin xyz="0.0 0.0 -0.175"/>
      <!-- TODO -->
      <mass value="2.0"/>
      <!-- org: 2 -->
      <inertia ixx="0.006237" ixy="0.0" ixz="0.0" iyy="0.005925" iyz="-0.0" izz="0.002488"/>
      <!-- <inertia ixx="0.01" ixy="0.01" ixz="0.01" iyy="0.01" iyz="0.01" izz="0.01"/> -->
    </inertial>
    <visual>
      <origin xyz="0 0 -0.1"/>
      <geometry>
        <box size="0.05 0.05 0.2"/>
        <!-- OK: from hip-yaw to pelvis (0.1) + from plevis to hip-pitch (0.1)-->
      </geometry>
      <material name="grey"/>
    </visual>
    <visual>
      <origin rpy="0 0 0" xyz="0 0 0"/>
      <geometry>
        <cylinder length="0.1" radius="0.05"/>
      </geometry>
      <material name="grey"/>
    </visual>
    <collision>
      <origin xyz="0 0 -0.1"/>
      <geometry>
        <box size="0.05 0.05 0.15"/>
        <!-- OK: from hip-yaw to pelvis (0.1) + from plevis to hip-pitch (0.1)-->
      </geometry>
      <material name="grey"/>
    </collision>
    <!-- <collision>
		<origin xyz="0 0 0" rpy="0 0 0" />
		<geometry>
			<cylinder length="${motors_length}" radius="${motors_radius}"/>
		</geometry>
		<material name="grey"/>
	</collision> -->
  </link>
  <link name="hip2_1">
    <inertial>
      <origin xyz="0.0 0.0 -0.233333"/>
      <mass value="4.5"/>
      <!-- org: 4.5 -->
      <inertia ixx="0.037113" ixy="0.0" ixz="0.0" iyy="0.0368" iyz="-0.0" izz="0.003988"/>
      <!-- <inertia ixx="0.01" ixy="0.01" ixz="0.01" iyy="0.01" iyz="0.01" izz="0.01"/> -->
    </inertial>
    <visual>
      <origin xyz="0 0 -0.175"/>
      <geometry>
        <box size="0.05 0.05 0.35"/>
        <!-- OK -->
      </geometry>
      <material name="blue"/>
    </visual>
    <visual>
      <origin rpy="1.5707963268 0 0" xyz="0 0 0"/>
      <geometry>
        <cylinder length="0.1" radius="0.05"/>
      </geometry>
      <material name="blue"/>
    </visual>
    <collision>
      <origin xyz="0 0 -0.175"/>
      <geometry>
        <box size="0.05 0.05 0.3"/>
        <!-- OK -->
      </geometry>
      <material name="blue"/>
    </collision>
    <!-- <collision>
		<origin xyz="0 0 0" rpy="${PI/2} 0 0" />
		<geometry>
			<cylinder length="${motors_length}" radius="${motors_radius}"/>
		</geometry>
		<material name="blue"/>
	</collision> -->
  </link>
  <link name="knee_1">
    <inertial>
      <origin xyz="0.0 0.0 -0.15"/>
      <!-- TODO -->
      <mass value="3.5"/>
      <!-- org: 3.5, foot un modeled-->
      <inertia ixx="0.004433" ixy="0.0" ixz="0.0" iyy="0.004433" iyz="0.0" izz="0.0021"/>
      <!--	<inertia ixx="0.01" ixy="0.01" ixz="0.01" iyy="0.01" iyz="0.01" izz="0.01"/>  -->
    </inertial>
    <visual>
      <origin xyz="0 0 -0.125"/>
      <geometry>
        <box size="0.05 0.05 0.25"/>
        <!-- OK: foot un modeled-->
      </geometry>
      <material name="grey"/>
    </visual>
    <visual>
      <origin rpy="1.5707963268 0 0" xyz="0 0 0"/>
      <geometry>
        <cylinder length="0.1" radius="0.05"/>
      </geometry>
      <material name="blue"/>
    </visual>
    <visual>
      <origin xyz="0 0 -0.25"/>
      <geometry>
        <sphere radius="0.05"/>
      </geometry>
      <material name="blue"/>
    </visual>
    <collision>
      <origin xyz="0 0 -0.125"/>
      <geometry>
        <box size="0.05 0.05 0.2"/>
        <!-- OK: foot un modeled-->
      </geometry>
      <material name="grey"/>
    </collision>
    <!--	<collision>
		<origin xyz="0 0 0" rpy="${PI/2} 0 0" />
		<geometry>
			<cylinder length="${motors_length}" radius="${motors_radius}"/>
		</geometry>
		<material name="blue"/>
	</collision> -->
    <collision>
      <origin xyz="0 0 -0.25"/>
      <geometry>
        <sphere radius="0.05"/>
      </geometry>
      <material name="blue"/>
    </collision>
  </link>
  <!-- ftsensor -->
  <!--<link name="ft_foot_${leg_num}">
  <inertial>
    <mass value="0.001"/>
    <origin xyz="0 0 0"/>
    <inertia ixx="1.0E-6" ixy="0" ixz="0" iyy="1.0E-6" iyz="0" izz="1.0E-6"/>
  </inertial>
  <visual>
      <origin rpy="0 0 0" xyz="0 0 0"/>
      <geometry>
        <box size="0.01 0.01 0.01"/>
      </geometry>
  </visual>
</link>-->
  <!-- /wheels -->
  <joint name="hip_yaw_1" type="revolute">
    <parent link="pelvis"/>
    <child link="hip1_1"/>
    <origin rpy="0 0 1.5707963268" xyz="0.3 0.15 0"/>
    <axis xyz="0 0 -1"/>
    <limit effort="147" lower="-2.09" upper="2.09" velocity="6.5"/>
    <!-- TODO -->
  </joint>
  <joint name="hip_pitch_1" type="revolute">
    <parent link="hip1_1"/>
    <child link="hip2_1"/>
    <origin xyz="0.0 0.0 -0.2"/>
    <axis xyz="0 -1 0"/>
    <limit effort="330" lower="-3.14" upper="3.14" velocity="6.5"/>
    <!-- TODO -->
  </joint>
  <joint name="knee_pitch_1" type="revolute">
    <parent link="hip2_1"/>
    <child link="knee_1"/>
    <origin xyz="0.0 0.0 -0.35"/>
    <axis xyz="0 -1 0"/>
    <limit effort="330" lower="-3.14" upper="3.14" velocity="6.5"/>
    <!-- TODO -->
  </joint>
  <transmission name="t_hip_yaw_1">
    <type> transmission_interface/SimpleTransmission</type>
    <joint name="hip_yaw_1">
      <hardwareInterface>EffortJointInterface</hardwareInterface>
    </joint>
    <actuator name="motor_hip_yaw_1">
      <hardwareInterface>EffortJointInterface</hardwareInterface>
      <machanicalReduction>1</machanicalReduction>
    </actuator>
    <robotNamespace>/centauro</robotNamespace>
  </transmission>
  <transmission name="t_hip_pitch_1">
    <type> transmission_interface/SimpleTransmission</type>
    <joint name="hip_pitch_1">
      <hardwareInterface>EffortJointInterface</hardwareInterface>
    </joint>
    <actuator name="motor_hip_pitch_1">
      <hardwareInterface>EffortJointInterface</hardwareInterface>
      <machanicalReduction>1</machanicalReduction>
    </actuator>
    <robotNamespace>/centauro</robotNamespace>
  </transmission>
  <transmission name="t_knee_pitch_1">
    <type> transmission_interface/SimpleTransmission</type>
    <joint name="knee_pitch_1">
      <hardwareInterface>EffortJointInterface</hardwareInterface>
    </joint>
    <actuator name="motor_knee_pitch_1">
      <hardwareInterface>EffortJointInterface</hardwareInterface>
      <machanicalReduction>1</machanicalReduction>
    </actuator>
    <robotNamespace>/centauro</robotNamespace>
  </transmission>
  <!-- /actuators -->
  <link name="hip1_2">
    <inertial>
      <origin xyz="0.0 0.0 -0.175"/>
      <!-- TODO -->
      <mass value="2.0"/>
      <!-- org: 2 -->
      <inertia ixx="0.006237" ixy="0.0" ixz="0.0" iyy="0.005925" iyz="-0.0" izz="0.002488"/>
      <!-- <inertia ixx="0.01" ixy="0.01" ixz="0.01" iyy="0.01" iyz="0.01" izz="0.01"/> -->
    </inertial>
    <visual>
      <origin xyz="0 0 -0.1"/>
      <geometry>
        <box size="0.05 0.05 0.2"/>
        <!-- OK: from hip-yaw to pelvis (0.1) + from plevis to hip-pitch (0.1)-->
      </geometry>
      <material name="grey"/>
    </visual>
    <visual>
      <origin rpy="0 0 0" xyz="0 0 0"/>
      <geometry>
        <cylinder length="0.1" radius="0.05"/>
      </geometry>
      <material name="grey"/>
    </visual>
    <collision>
      <origin xyz="0 0 -0.1"/>
      <geometry>
        <box size="0.05 0.05 0.15"/>
        <!-- OK: from hip-yaw to pelvis (0.1) + from plevis to hip-pitch (0.1)-->
      </geometry>
      <material name="grey"/>
    </collision>
    <!-- <collision>
		<origin xyz="0 0 0" rpy="0 0 0" />
		<geometry>
			<cylinder length="${motors_length}" radius="${motors_radius}"/>
		</geometry>
		<material name="grey"/>
	</collision> -->
  </link>
  <link name="hip2_2">
    <inertial>
      <origin xyz="0.0 0.0 -0.233333"/>
      <mass value="4.5"/>
      <!-- org: 4.5 -->
      <inertia ixx="0.037113" ixy="0.0" ixz="0.0" iyy="0.0368" iyz="-0.0" izz="0.003988"/>
      <!-- <inertia ixx="0.01" ixy="0.01" ixz="0.01" iyy="0.01" iyz="0.01" izz="0.01"/> -->
    </inertial>
    <visual>
      <origin xyz="0 0 -0.175"/>
      <geometry>
        <box size="0.05 0.05 0.35"/>
        <!-- OK -->
      </geometry>
      <material name="blue"/>
    </visual>
    <visual>
      <origin rpy="1.5707963268 0 0" xyz="0 0 0"/>
      <geometry>
        <cylinder length="0.1" radius="0.05"/>
      </geometry>
      <material name="blue"/>
    </visual>
    <collision>
      <origin xyz="0 0 -0.175"/>
      <geometry>
        <box size="0.05 0.05 0.3"/>
        <!-- OK -->
      </geometry>
      <material name="blue"/>
    </collision>
    <!-- <collision>
		<origin xyz="0 0 0" rpy="${PI/2} 0 0" />
		<geometry>
			<cylinder length="${motors_length}" radius="${motors_radius}"/>
		</geometry>
		<material name="blue"/>
	</collision> -->
  </link>
  <link name="knee_2">
    <inertial>
      <origin xyz="0.0 0.0 -0.15"/>
      <!-- TODO -->
      <mass value="3.5"/>
      <!-- org: 3.5, foot un modeled-->
      <inertia ixx="0.004433" ixy="0.0" ixz="0.0" iyy="0.004433" iyz="0.0" izz="0.0021"/>
      <!--	<inertia ixx="0.01" ixy="0.01" ixz="0.01" iyy="0.01" iyz="0.01" izz="0.01"/>  -->
    </inertial>
    <visual>
      <origin xyz="0 0 -0.125"/>
      <geometry>
        <box size="0.05 0.05 0.25"/>
        <!-- OK: foot un modeled-->
      </geometry>
      <material name="grey"/>
    </visual>
    <visual>
      <origin rpy="1.5707963268 0 0" xyz="0 0 0"/>
      <geometry>
        <cylinder length="0.1" radius="0.05"/>
      </geometry>
      <material name="blue"/>
    </visual>
    <visual>
      <origin xyz="0 0 -0.25"/>
      <geometry>
        <sphere radius="0.05"/>
      </geometry>
      <material name="blue"/>
    </visual>
    <collision>
      <origin xyz="0 0 -0.125"/>
      <geometry>
        <box size="0.05 0.05 0.2"/>
        <!-- OK: foot un modeled-->
      </geometry>
      <material name="grey"/>
    </collision>
    <!--	<collision>
		<origin xyz="0 0 0" rpy="${PI/2} 0 0" />
		<geometry>
			<cylinder length="${motors_length}" radius="${motors_radius}"/>
		</geometry>
		<material name="blue"/>
	</collision> -->
    <collision>
      <origin xyz="0 0 -0.25"/>
      <geometry>
        <sphere radius="0.05"/>
      </geometry>
      <material name="blue"/>
    </collision>
  </link>
  <!-- ftsensor -->
  <!--<link name="ft_foot_${leg_num}">
  <inertial>
    <mass value="0.001"/>
    <origin xyz="0 0 0"/>
    <inertia ixx="1.0E-6" ixy="0" ixz="0" iyy="1.0E-6" iyz="0" izz="1.0E-6"/>
  </inertial>
  <visual>
      <origin rpy="0 0 0" xyz="0 0 0"/>
      <geometry>
        <box size="0.01 0.01 0.01"/>
      </geometry>
  </visual>
</link>-->
  <!-- /wheels -->
  <joint name="hip_yaw_2" type="revolute">
    <parent link="pelvis"/>
    <child link="hip1_2"/>
    <origin rpy="0 0 1.5707963268" xyz="0.3 -0.15 0"/>
    <axis xyz="0 0 1"/>
    <limit effort="147" lower="-2.09" upper="2.09" velocity="6.5"/>
    <!-- TODO -->
  </joint>
  <joint name="hip_pitch_2" type="revolute">
    <parent link="hip1_2"/>
    <child link="hip2_2"/>
    <origin xyz="0.0 0.0 -0.2"/>
    <axis xyz="0 1 0"/>
    <limit effort="330" lower="-3.14" upper="3.14" velocity="6.5"/>
    <!-- TODO -->
  </joint>
  <joint name="knee_pitch_2" type="revolute">
    <parent link="hip2_2"/>
    <child link="knee_2"/>
    <origin xyz="0.0 0.0 -0.35"/>
    <axis xyz="0 1 0"/>
    <limit effort="330" lower="-3.14" upper="3.14" velocity="6.5"/>
    <!-- TODO -->
  </joint>
  <transmission name="t_hip_yaw_2">
    <type> transmission_interface/SimpleTransmission</type>
    <joint name="hip_yaw_2">
      <hardwareInterface>EffortJointInterface</hardwareInterface>
    </joint>
    <actuator name="motor_hip_yaw_2">
      <hardwareInterface>EffortJointInterface</hardwareInterface>
      <machanicalReduction>1</machanicalReduction>
    </actuator>
    <robotNamespace>/centauro</robotNamespace>
  </transmission>
  <transmission name="t_hip_pitch_2">
    <type> transmission_interface/SimpleTransmission</type>
    <joint name="hip_pitch_2">
      <hardwareInterface>EffortJointInterface</hardwareInterface>
    </joint>
    <actuator name="motor_hip_pitch_2">
      <hardwareInterface>EffortJointInterface</hardwareInterface>
      <machanicalReduction>1</machanicalReduction>
    </actuator>
    <robotNamespace>/centauro</robotNamespace>
  </transmission>
  <transmission name="t_knee_pitch_2">
    <type> transmission_interface/SimpleTransmission</type>
    <joint name="knee_pitch_2">
      <hardwareInterface>EffortJointInterface</hardwareInterface>
    </joint>
    <actuator name="motor_knee_pitch_2">
      <hardwareInterface>EffortJointInterface</hardwareInterface>
      <machanicalReduction>1</machanicalReduction>
    </actuator>
    <robotNamespace>/centauro</robotNamespace>
  </transmission>
  <!-- /actuators -->
  <link name="hip1_3">
    <inertial>
      <origin xyz="0.0 0.0 -0.175"/>
      <!-- TODO -->
      <mass value="2.0"/>
      <!-- org: 2 -->
      <inertia ixx="0.006237" ixy="0.0" ixz="0.0" iyy="0.005925" iyz="-0.0" izz="0.002488"/>
      <!-- <inertia ixx="0.01" ixy="0.01" ixz="0.01" iyy="0.01" iyz="0.01" izz="0.01"/> -->
    </inertial>
    <visual>
      <origin xyz="0 0 -0.1"/>
      <geometry>
        <box size="0.05 0.05 0.2"/>
        <!-- OK: from hip-yaw to pelvis (0.1) + from plevis to hip-pitch (0.1)-->
      </geometry>
      <material name="grey"/>
    </visual>
    <visual>
      <origin rpy="0 0 0" xyz="0 0 0"/>
      <geometry>
        <cylinder length="0.1" radius="0.05"/>
      </geometry>
      <material name="grey"/>
    </visual>
    <collision>
      <origin xyz="0 0 -0.1"/>
      <geometry>
        <box size="0.05 0.05 0.15"/>
        <!-- OK: from hip-yaw to pelvis (0.1) + from plevis to hip-pitch (0.1)-->
      </geometry>
      <material name="grey"/>
    </collision>
    <!-- <collision>
		<origin xyz="0 0 0" rpy="0 0 0" />
		<geometry>
			<cylinder length="${motors_length}" radius="${motors_radius}"/>
		</geometry>
		<material name="grey"/>
	</collision> -->
  </link>
  <link name="hip2_3">
    <inertial>
      <origin xyz="0.0 0.0 -0.233333"/>
      <mass value="4.5"/>
      <!-- org: 4.5 -->
      <inertia ixx="0.037113" ixy="0.0" ixz="0.0" iyy="0.0368" iyz="-0.0" izz="0.003988"/>
      <!-- <inertia ixx="0.01" ixy="0.01" ixz="0.01" iyy="0.01" iyz="0.01" izz="0.01"/> -->
    </inertial>
    <visual>
      <origin xyz="0 0 -0.175"/>
      <geometry>
        <box size="0.05 0.05 0.35"/>
        <!-- OK -->
      </geometry>
      <material name="blue"/>
    </visual>
    <visual>
      <origin rpy="1.5707963268 0 0" xyz="0 0 0"/>
      <geometry>
        <cylinder length="0.1" radius="0.05"/>
      </geometry>
      <material name="blue"/>
    </visual>
    <collision>
      <origin xyz="0 0 -0.175"/>
      <geometry>
        <box size="0.05 0.05 0.3"/>
        <!-- OK -->
      </geometry>
      <material name="blue"/>
    </collision>
    <!-- <collision>
		<origin xyz="0 0 0" rpy="${PI/2} 0 0" />
		<geometry>
			<cylinder length="${motors_length}" radius="${motors_radius}"/>
		</geometry>
		<material name="blue"/>
	</collision> -->
  </link>
  <link name="knee_3">
    <inertial>
      <origin xyz="0.0 0.0 -0.15"/>
      <!-- TODO -->
      <mass value="3.5"/>
      <!-- org: 3.5, foot un modeled-->
      <inertia ixx="0.004433" ixy="0.0" ixz="0.0" iyy="0.004433" iyz="0.0" izz="0.0021"/>
      <!--	<inertia ixx="0.01" ixy="0.01" ixz="0.01" iyy="0.01" iyz="0.01" izz="0.01"/>  -->
    </inertial>
    <visual>
      <origin xyz="0 0 -0.125"/>
      <geometry>
        <box size="0.05 0.05 0.25"/>
        <!-- OK: foot un modeled-->
      </geometry>
      <material name="grey"/>
    </visual>
    <visual>
      <origin rpy="1.5707963268 0 0" xyz="0 0 0"/>
      <geometry>
        <cylinder length="0.1" radius="0.05"/>
      </geometry>
      <material name="blue"/>
    </visual>
    <visual>
      <origin xyz="0 0 -0.25"/>
      <geometry>
        <sphere radius="0.05"/>
      </geometry>
      <material name="blue"/>
    </visual>
    <collision>
      <origin xyz="0 0 -0.125"/>
      <geometry>
        <box size="0.05 0.05 0.2"/>
        <!-- OK: foot un modeled-->
      </geometry>
      <material name="grey"/>
    </collision>
    <!--	<collision>
		<origin xyz="0 0 0" rpy="${PI/2} 0 0" />
		<geometry>
			<cylinder length="${motors_length}" radius="${motors_radius}"/>
		</geometry>
		<material name="blue"/>
	</collision> -->
    <collision>
      <origin xyz="0 0 -0.25"/>
      <geometry>
        <sphere radius="0.05"/>
      </geometry>
      <material name="blue"/>
    </collision>
  </link>
  <!-- ftsensor -->
  <!--<link name="ft_foot_${leg_num}">
  <inertial>
    <mass value="0.001"/>
    <origin xyz="0 0 0"/>
    <inertia ixx="1.0E-6" ixy="0" ixz="0" iyy="1.0E-6" iyz="0" izz="1.0E-6"/>
  </inertial>
  <visual>
      <origin rpy="0 0 0" xyz="0 0 0"/>
      <geometry>
        <box size="0.01 0.01 0.01"/>
      </geometry>
  </visual>
</link>-->
  <!-- /wheels -->
  <joint name="hip_yaw_3" type="revolute">
    <parent link="pelvis"/>
    <child link="hip1_3"/>
    <origin rpy="0 0 1.5707963268" xyz="-0.3 -0.15 0"/>
    <axis xyz="0 0 1"/>
    <limit effort="147" lower="-2.09" upper="2.09" velocity="6.5"/>
    <!-- TODO -->
  </joint>
  <joint name="hip_pitch_3" type="revolute">
    <parent link="hip1_3"/>
    <child link="hip2_3"/>
    <origin xyz="0.0 0.0 -0.2"/>
    <axis xyz="0 1 0"/>
    <limit effort="330" lower="-3.14" upper="3.14" velocity="6.5"/>
    <!-- TODO -->
  </joint>
  <joint name="knee_pitch_3" type="revolute">
    <parent link="hip2_3"/>
    <child link="knee_3"/>
    <origin xyz="0.0 0.0 -0.35"/>
    <axis xyz="0 1 0"/>
    <limit effort="330" lower="-3.14" upper="3.14" velocity="6.5"/>
    <!-- TODO -->
  </joint>
  <transmission name="t_hip_yaw_3">
    <type> transmission_interface/SimpleTransmission</type>
    <joint name="hip_yaw_3">
      <hardwareInterface>EffortJointInterface</hardwareInterface>
    </joint>
    <actuator name="motor_hip_yaw_3">
      <hardwareInterface>EffortJointInterface</hardwareInterface>
      <machanicalReduction>1</machanicalReduction>
    </actuator>
    <robotNamespace>/centauro</robotNamespace>
  </transmission>
  <transmission name="t_hip_pitch_3">
    <type> transmission_interface/SimpleTransmission</type>
    <joint name="hip_pitch_3">
      <hardwareInterface>EffortJointInterface</hardwareInterface>
    </joint>
    <actuator name="motor_hip_pitch_3">
      <hardwareInterface>EffortJointInterface</hardwareInterface>
      <machanicalReduction>1</machanicalReduction>
    </actuator>
    <robotNamespace>/centauro</robotNamespace>
  </transmission>
  <transmission name="t_knee_pitch_3">
    <type> transmission_interface/SimpleTransmission</type>
    <joint name="knee_pitch_3">
      <hardwareInterface>EffortJointInterface</hardwareInterface>
    </joint>
    <actuator name="motor_knee_pitch_3">
      <hardwareInterface>EffortJointInterface</hardwareInterface>
      <machanicalReduction>1</machanicalReduction>
    </actuator>
    <robotNamespace>/centauro</robotNamespace>
  </transmission>
  <!-- /actuators -->
  <link name="hip1_4">
    <inertial>
      <origin xyz="0.0 0.0 -0.175"/>
      <!-- TODO -->
      <mass value="2.0"/>
      <!-- org: 2 -->
      <inertia ixx="0.006237" ixy="0.0" ixz="0.0" iyy="0.005925" iyz="-0.0" izz="0.002488"/>
      <!-- <inertia ixx="0.01" ixy="0.01" ixz="0.01" iyy="0.01" iyz="0.01" izz="0.01"/> -->
    </inertial>
    <visual>
      <origin xyz="0 0 -0.1"/>
      <geometry>
        <box size="0.05 0.05 0.2"/>
        <!-- OK: from hip-yaw to pelvis (0.1) + from plevis to hip-pitch (0.1)-->
      </geometry>
      <material name="grey"/>
    </visual>
    <visual>
      <origin rpy="0 0 0" xyz="0 0 0"/>
      <geometry>
        <cylinder length="0.1" radius="0.05"/>
      </geometry>
      <material name="grey"/>
    </visual>
    <collision>
      <origin xyz="0 0 -0.1"/>
      <geometry>
        <box size="0.05 0.05 0.15"/>
        <!-- OK: from hip-yaw to pelvis (0.1) + from plevis to hip-pitch (0.1)-->
      </geometry>
      <material name="grey"/>
    </collision>
    <!-- <collision>
		<origin xyz="0 0 0" rpy="0 0 0" />
		<geometry>
			<cylinder length="${motors_length}" radius="${motors_radius}"/>
		</geometry>
		<material name="grey"/>
	</collision> -->
  </link>
  <link name="hip2_4">
    <inertial>
      <origin xyz="0.0 0.0 -0.233333"/>
      <mass value="4.5"/>
      <!-- org: 4.5 -->
      <inertia ixx="0.037113" ixy="0.0" ixz="0.0" iyy="0.0368" iyz="-0.0" izz="0.003988"/>
      <!-- <inertia ixx="0.01" ixy="0.01" ixz="0.01" iyy="0.01" iyz="0.01" izz="0.01"/> -->
    </inertial>
    <visual>
      <origin xyz="0 0 -0.175"/>
      <geometry>
        <box size="0.05 0.05 0.35"/>
        <!-- OK -->
      </geometry>
      <material name="blue"/>
    </visual>
    <visual>
      <origin rpy="1.5707963268 0 0" xyz="0 0 0"/>
      <geometry>
        <cylinder length="0.1" radius="0.05"/>
      </geometry>
      <material name="blue"/>
    </visual>
    <collision>
      <origin xyz="0 0 -0.175"/>
      <geometry>
        <box size="0.05 0.05 0.3"/>
        <!-- OK -->
      </geometry>
      <material name="blue"/>
    </collision>
    <!-- <collision>
		<origin xyz="0 0 0" rpy="${PI/2} 0 0" />
		<geometry>
			<cylinder length="${motors_length}" radius="${motors_radius}"/>
		</geometry>
		<material name="blue"/>
	</collision> -->
  </link>
  <link name="knee_4">
    <inertial>
      <origin xyz="0.0 0.0 -0.15"/>
      <!-- TODO -->
      <mass value="3.5"/>
      <!-- org: 3.5, foot un modeled-->
      <inertia ixx="0.004433" ixy="0.0" ixz="0.0" iyy="0.004433" iyz="0.0" izz="0.0021"/>
      <!--	<inertia ixx="0.01" ixy="0.01" ixz="0.01" iyy="0.01" iyz="0.01" izz="0.01"/>  -->
    </inertial>
    <visual>
      <origin xyz="0 0 -0.125"/>
      <geometry>
        <box size="0.05 0.05 0.25"/>
        <!-- OK: foot un modeled-->
      </geometry>
      <material name="grey"/>
    </visual>
    <visual>
      <origin rpy="1.5707963268 0 0" xyz="0 0 0"/>
      <geometry>
        <cylinder length="0.1" radius="0.05"/>
      </geometry>
      <material name="blue"/>
    </visual>
    <visual>
      <origin xyz="0 0 -0.25"/>
      <geometry>
        <sphere radius="0.05"/>
      </geometry>
      <material name="blue"/>
    </visual>
    <collision>
      <origin xyz="0 0 -0.125"/>
      <geometry>
        <box size="0.05 0.05 0.2"/>
        <!-- OK: foot un modeled-->
      </geometry>
      <material name="grey"/>
    </collision>
    <!--	<collision>
		<origin xyz="0 0 0" rpy="${PI/2} 0 0" />
		<geometry>
			<cylinder length="${motors_length}" radius="${motors_radius}"/>
		</geometry>
		<material name="blue"/>
	</collision> -->
    <collision>
      <origin xyz="0 0 -0.25"/>
      <geometry>
        <sphere radius="0.05"/>
      </geometry>
      <material name="blue"/>
    </collision>
  </link>
  <!-- ftsensor -->
  <!--<link name="ft_foot_${leg_num}">
  <inertial>
    <mass value="0.001"/>
    <origin xyz="0 0 0"/>
    <inertia ixx="1.0E-6" ixy="0" ixz="0" iyy="1.0E-6" iyz="0" izz="1.0E-6"/>
  </inertial>
  <visual>
      <origin rpy="0 0 0" xyz="0 0 0"/>
      <geometry>
        <box size="0.01 0.01 0.01"/>
      </geometry>
  </visual>
</link>-->
  <!-- /wheels -->
  <joint name="hip_yaw_4" type="revolute">
    <parent link="pelvis"/>
    <child link="hip1_4"/>
    <origin rpy="0 0 1.5707963268" xyz="-0.3 0.15 0"/>
    <axis xyz="0 0 -1"/>
    <limit effort="147" lower="-2.09" upper="2.09" velocity="6.5"/>
    <!-- TODO -->
  </joint>
  <joint name="hip_pitch_4" type="revolute">
    <parent link="hip1_4"/>
    <child link="hip2_4"/>
    <origin xyz="0.0 0.0 -0.2"/>
    <axis xyz="0 -1 0"/>
    <limit effort="330" lower="-3.14" upper="3.14" velocity="6.5"/>
    <!-- TODO -->
  </joint>
  <joint name="knee_pitch_4" type="revolute">
    <parent link="hip2_4"/>
    <child link="knee_4"/>
    <origin xyz="0.0 0.0 -0.35"/>
    <axis xyz="0 -1 0"/>
    <limit effort="330" lower="-3.14" upper="3.14" velocity="6.5"/>
    <!-- TODO -->
  </joint>
  <transmission name="t_hip_yaw_4">
    <type> transmission_interface/SimpleTransmission</type>
    <joint name="hip_yaw_4">
      <hardwareInterface>EffortJointInterface</hardwareInterface>
    </joint>
    <actuator name="motor_hip_yaw_4">
      <hardwareInterface>EffortJointInterface</hardwareInterface>
      <machanicalReduction>1</machanicalReduction>
    </actuator>
    <robotNamespace>/centauro</robotNamespace>
  </transmission>
  <transmission name="t_hip_pitch_4">
    <type> transmission_interface/SimpleTransmission</type>
    <joint name="hip_pitch_4">
      <hardwareInterface>EffortJointInterface</hardwareInterface>
    </joint>
    <actuator name="motor_hip_pitch_4">
      <hardwareInterface>EffortJointInterface</hardwareInterface>
      <machanicalReduction>1</machanicalReduction>
    </actuator>
    <robotNamespace>/centauro</robotNamespace>
  </transmission>
  <transmission name="t_knee_pitch_4">
    <type> transmission_interface/SimpleTransmission</type>
    <joint name="knee_pitch_4">
      <hardwareInterface>EffortJointInterface</hardwareInterface>
    </joint>
    <actuator name="motor_knee_pitch_4">
      <hardwareInterface>EffortJointInterface</hardwareInterface>
      <machanicalReduction>1</machanicalReduction>
    </actuator>
    <robotNamespace>/centauro</robotNamespace>
  </transmission>
  <!-- /actuators -->
  <!-- /legs -->
</robot>
